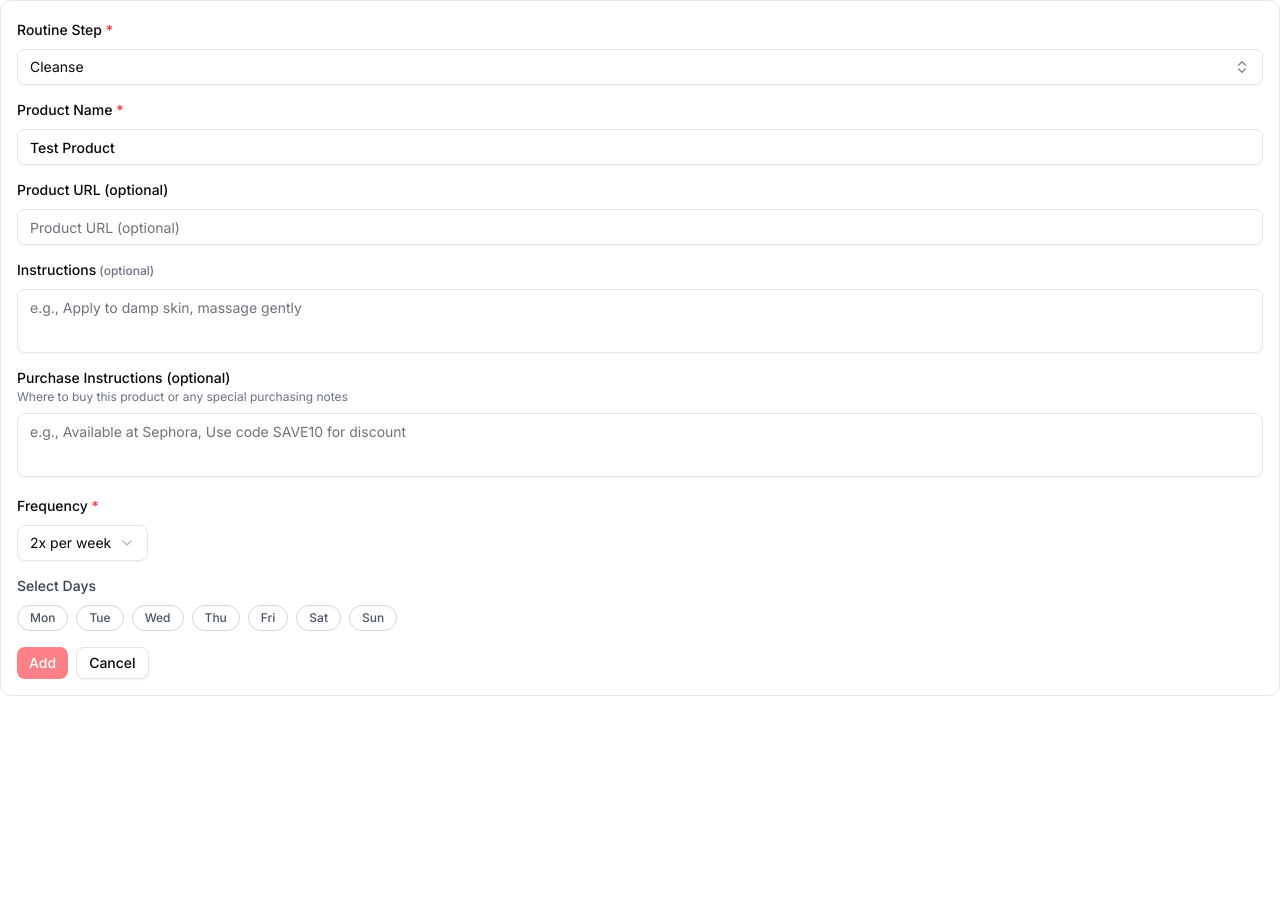
Test case: ProductForm › Error Message Interaction Behavior › error message appears after first day button click with insufficient days
This screenshot has width=1280, height=900.
Expected: the text "please select exactly 2 days" is not shown
# User clicks Monday (1 day selected, need 2)
Click the button "Mon": [43, 618] box [17,605,68,631]
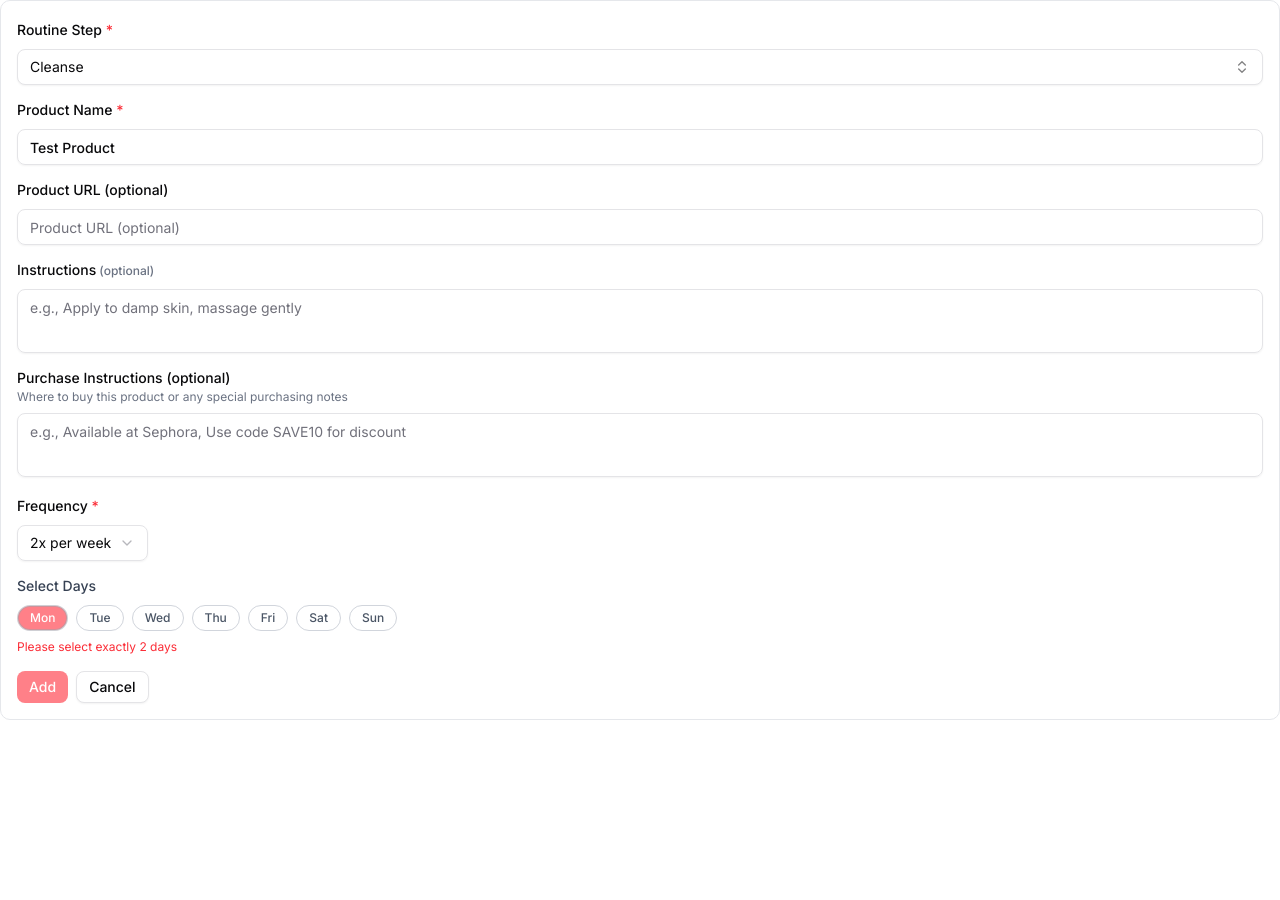
Now the text "Please select exactly 2 days" is shown, box [17,639,177,654]
